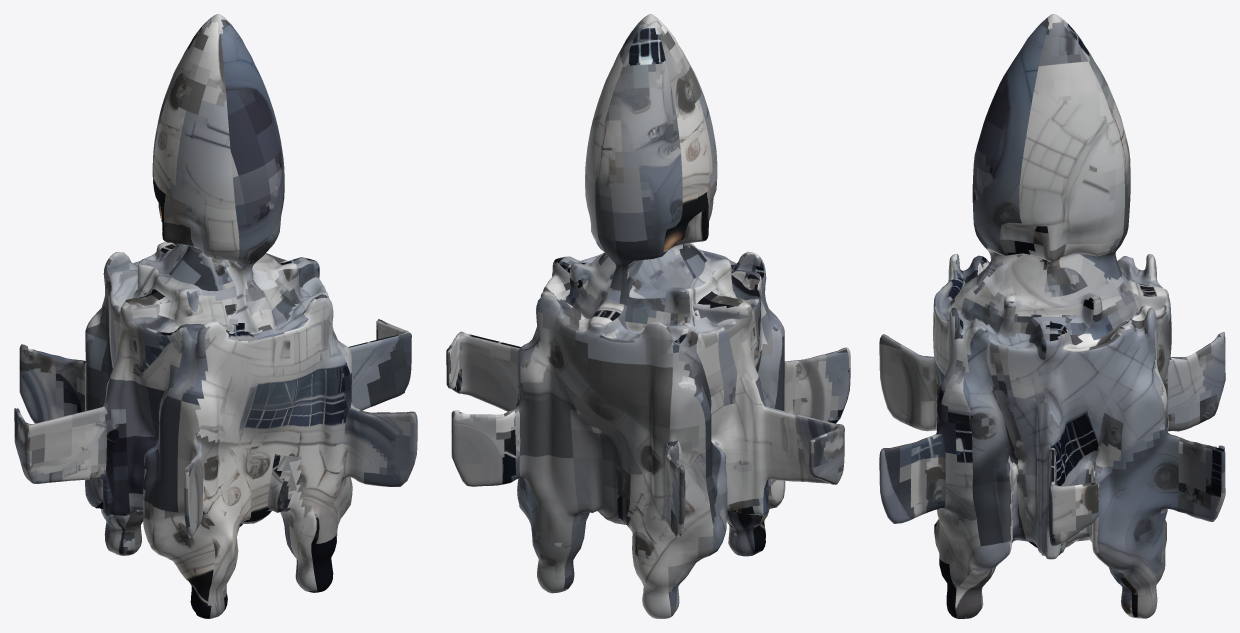
The model's file is nave23d.fbx.
3 renders of one model, left to right at view 1: azimuth 30°, elevation 25°; view 2: azimuth 150°, elevation 25°; view 3: azimuth 270°, elevation 25°, orthographic. The views are drawn at different scales.
Parts seen in each view (by area): view 1: model; view 2: model; view 3: model.
Boxes of the visible parts, <box> form: model: <box>14,14,417,618</box>; model: <box>446,14,850,618</box>; model: <box>879,14,1225,618</box>.
Bounding box in the file's own units: 138 × 189 × 103.
